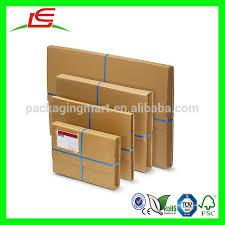Cardboard: (38, 36, 225, 191)
